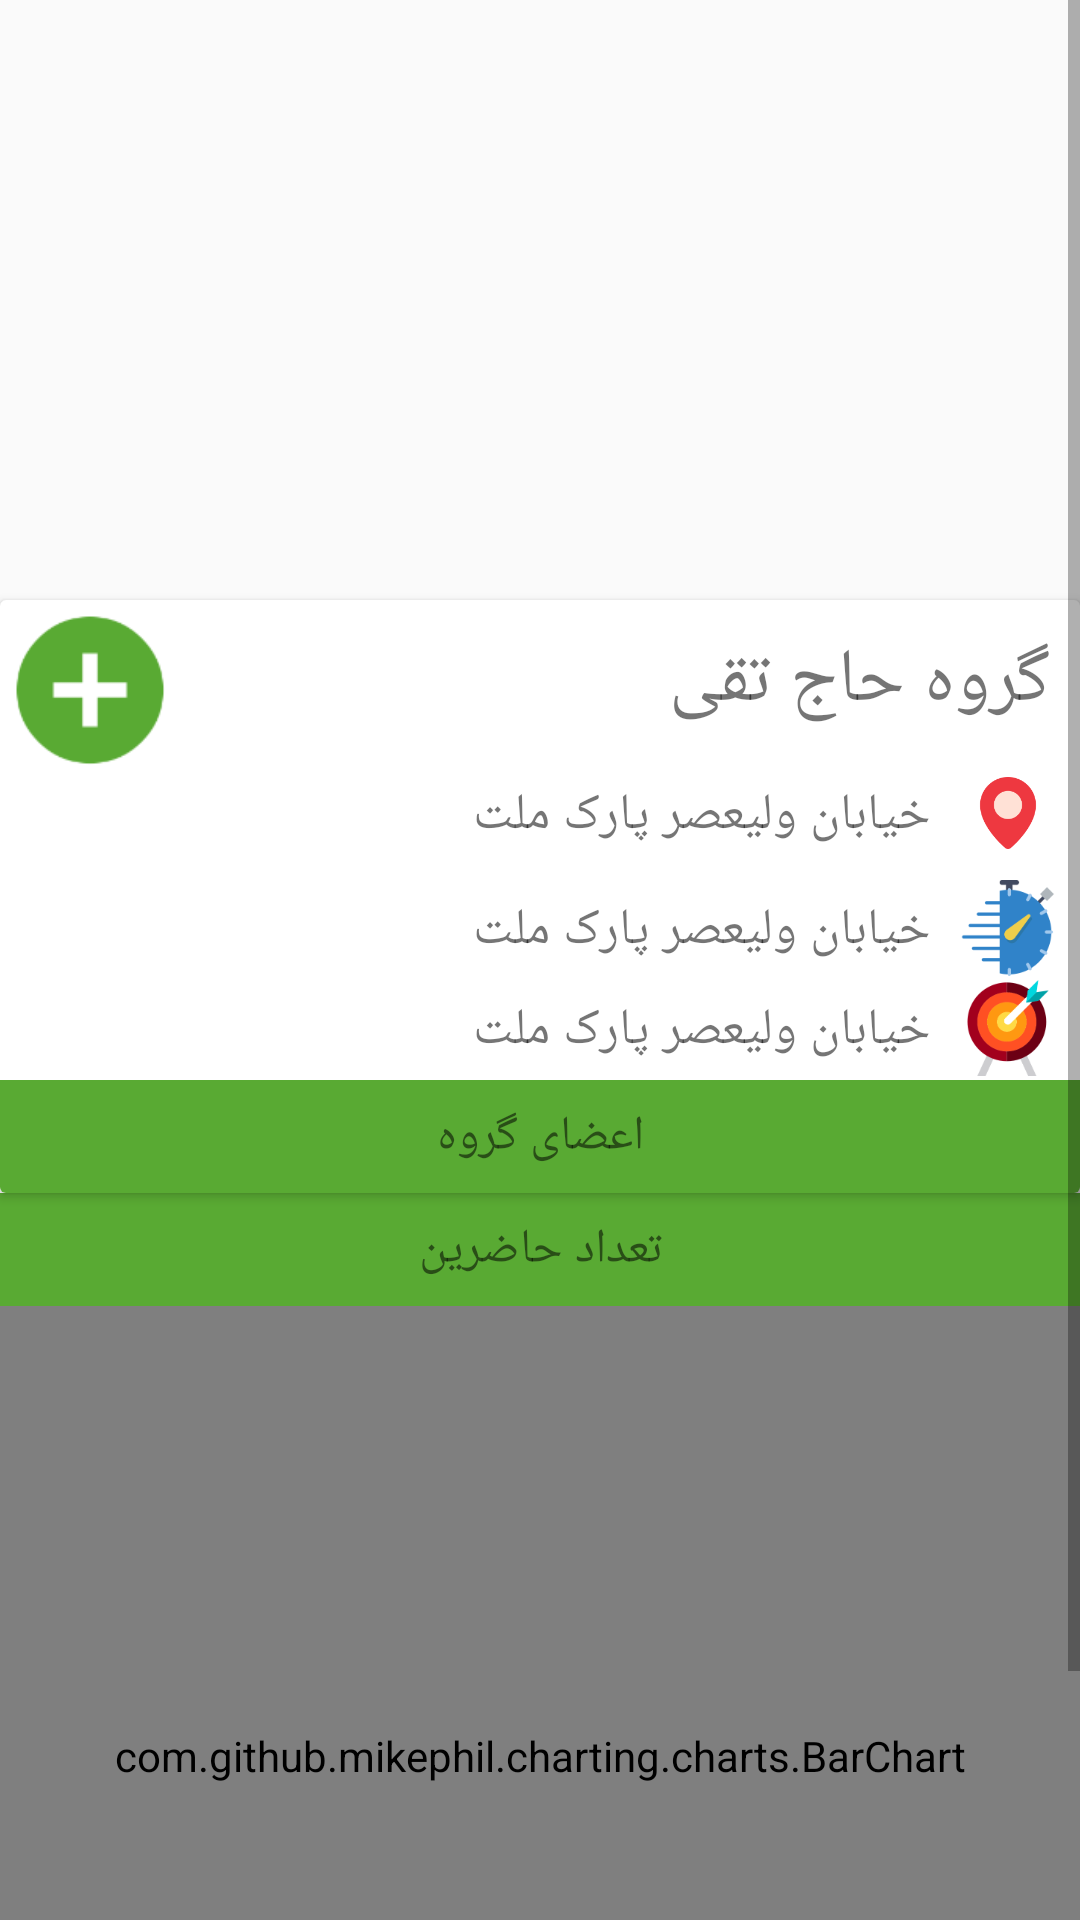

Screen size 1080w x 1920h. Icon name, then its center in pixels as [x,y]:
add circle: [90,690]
maps and flags: [1008,813]
stopwatch: [1008,928]
target: [1008,1028]
